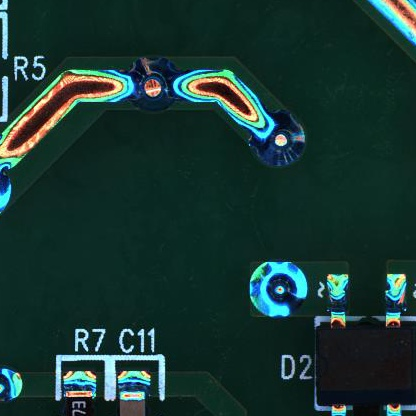spot: (250, 113, 307, 169), (248, 262, 307, 316), (127, 55, 178, 113)
